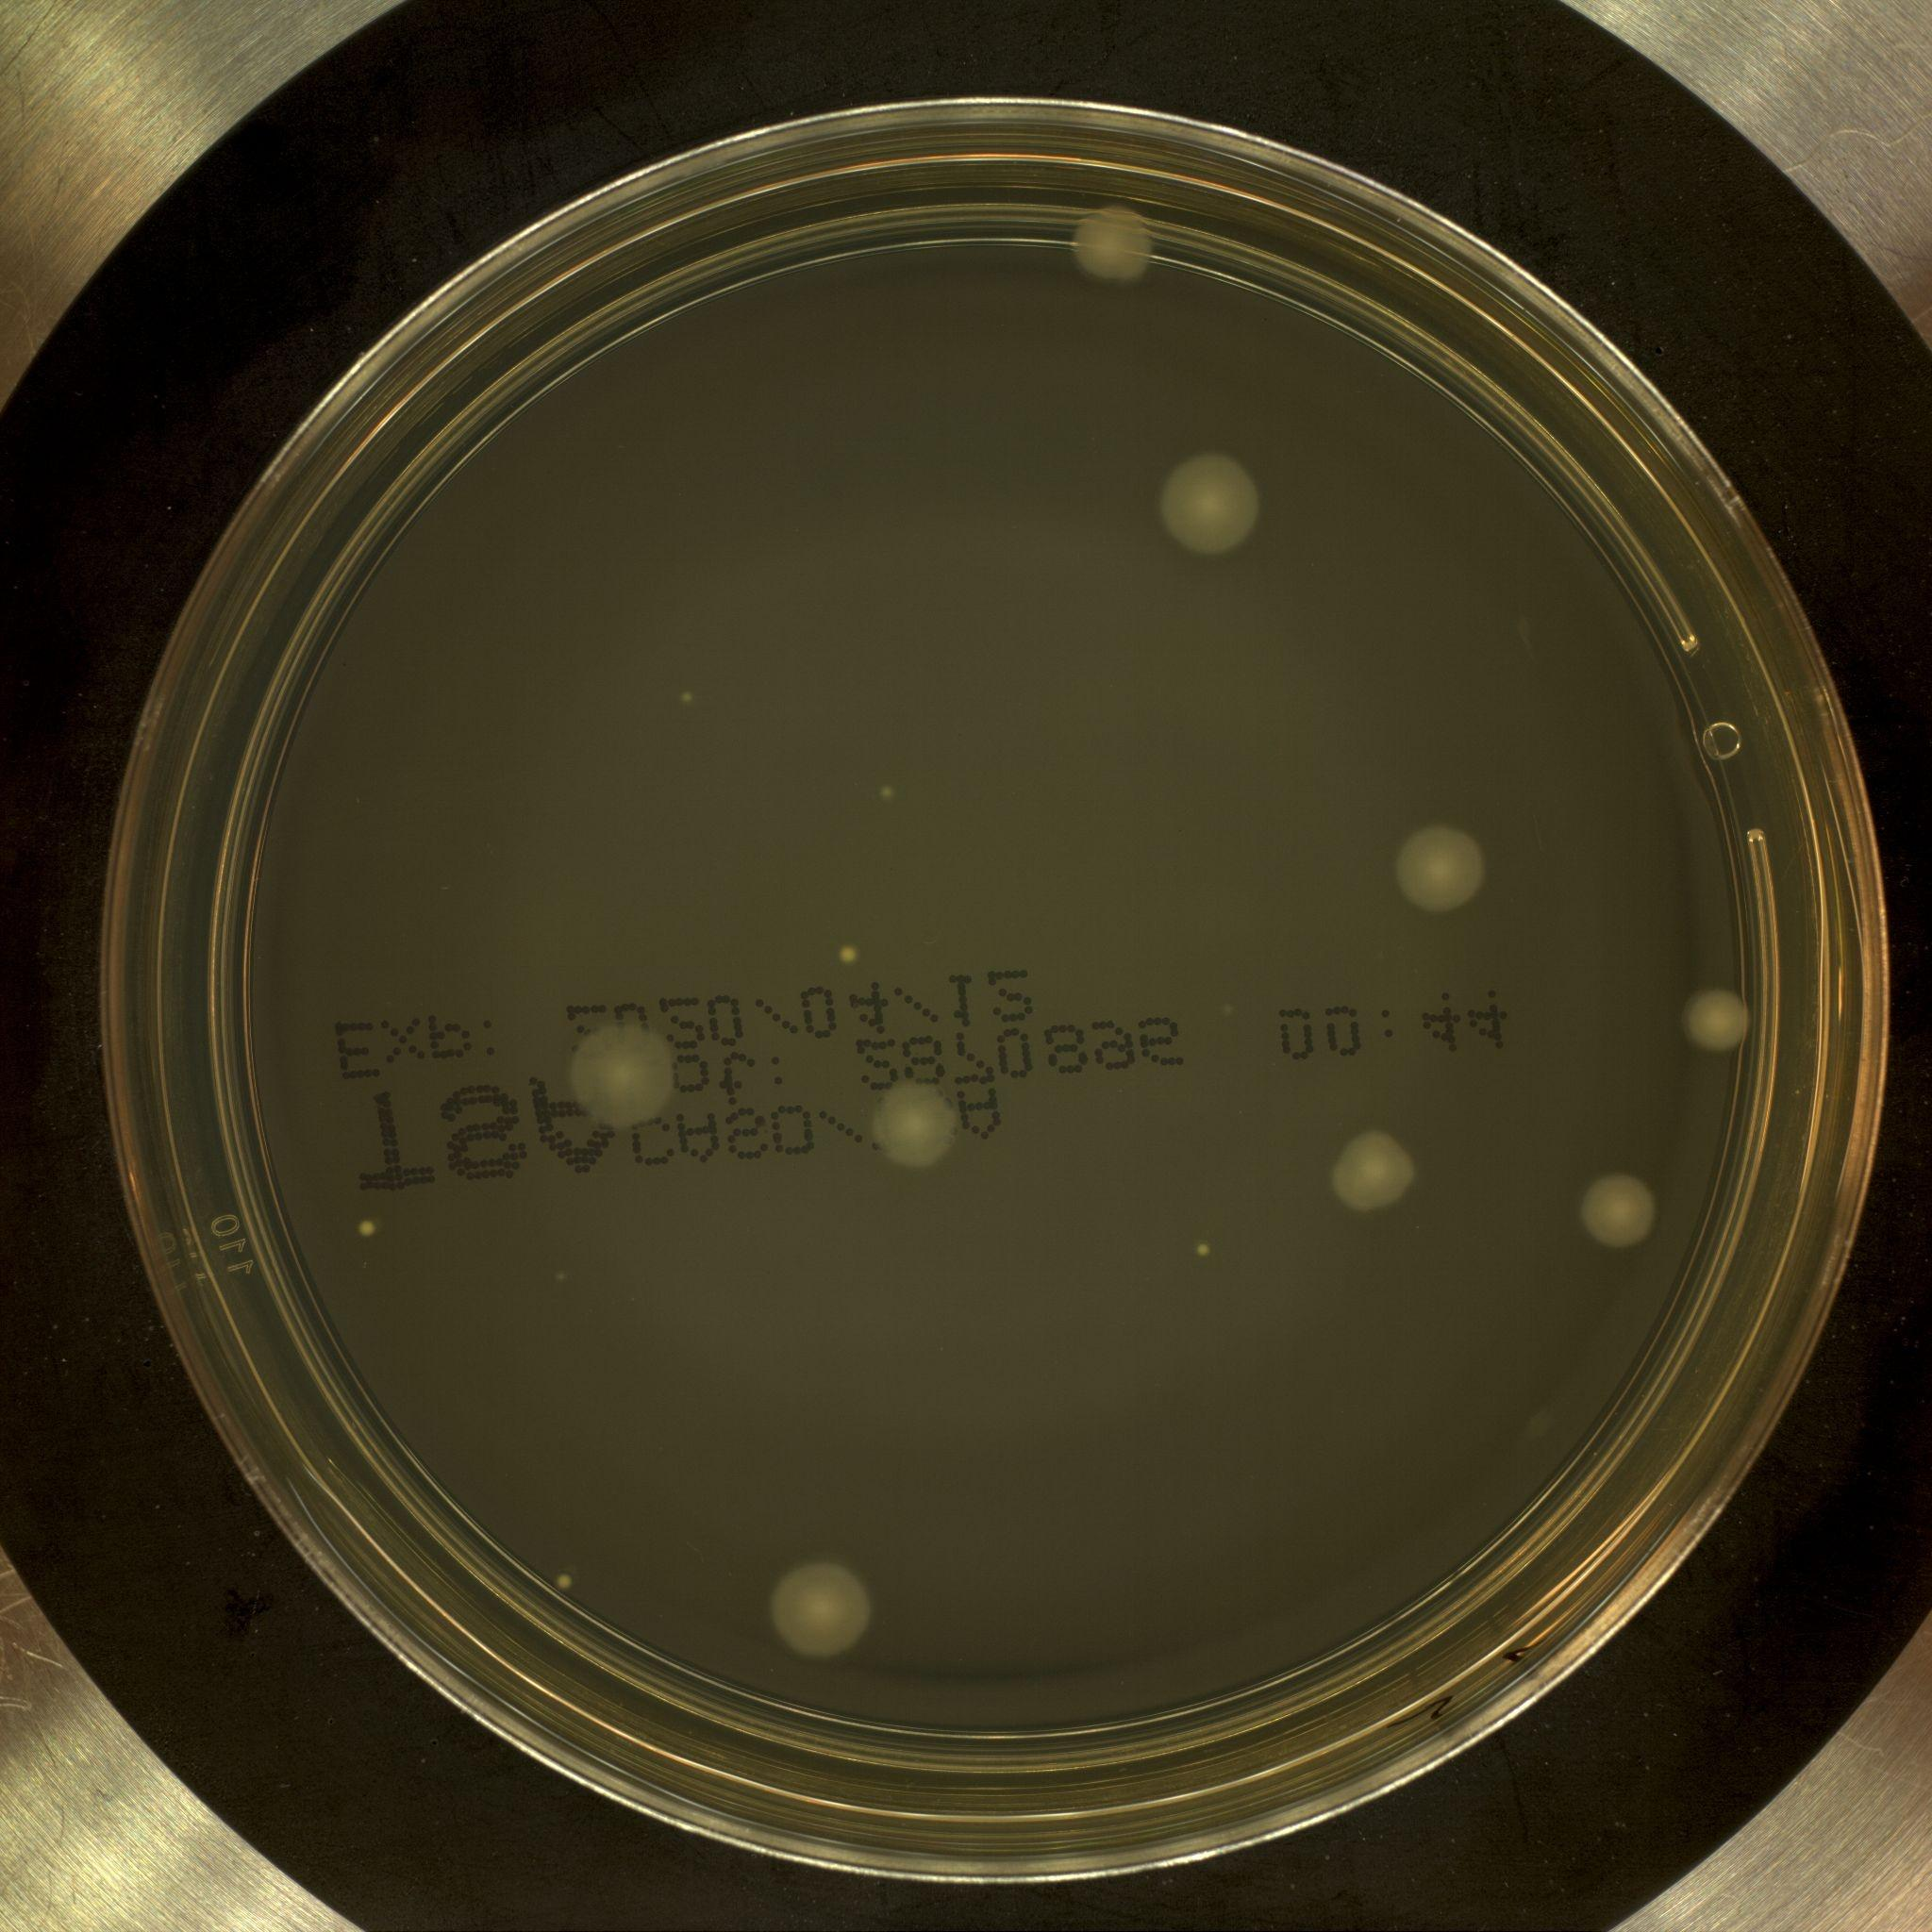e. coli: (573, 1019, 684, 1125), (769, 1559, 872, 1657), (1164, 453, 1262, 554), (1324, 1129, 1423, 1217), (875, 1075, 966, 1167), (1394, 818, 1481, 912), (1073, 205, 1158, 283), (1580, 1170, 1657, 1248), (1687, 988, 1758, 1057)
